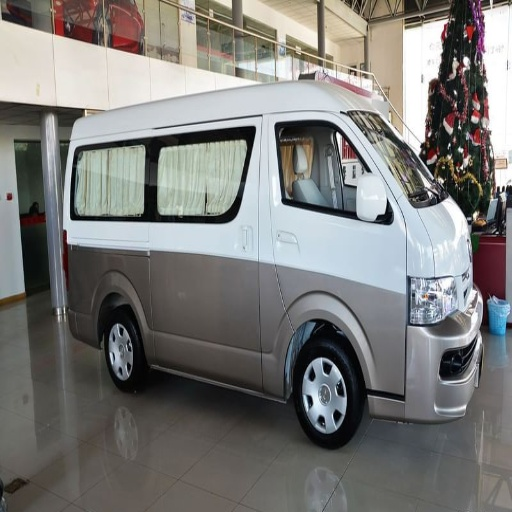trunk: (63, 223, 417, 394)
